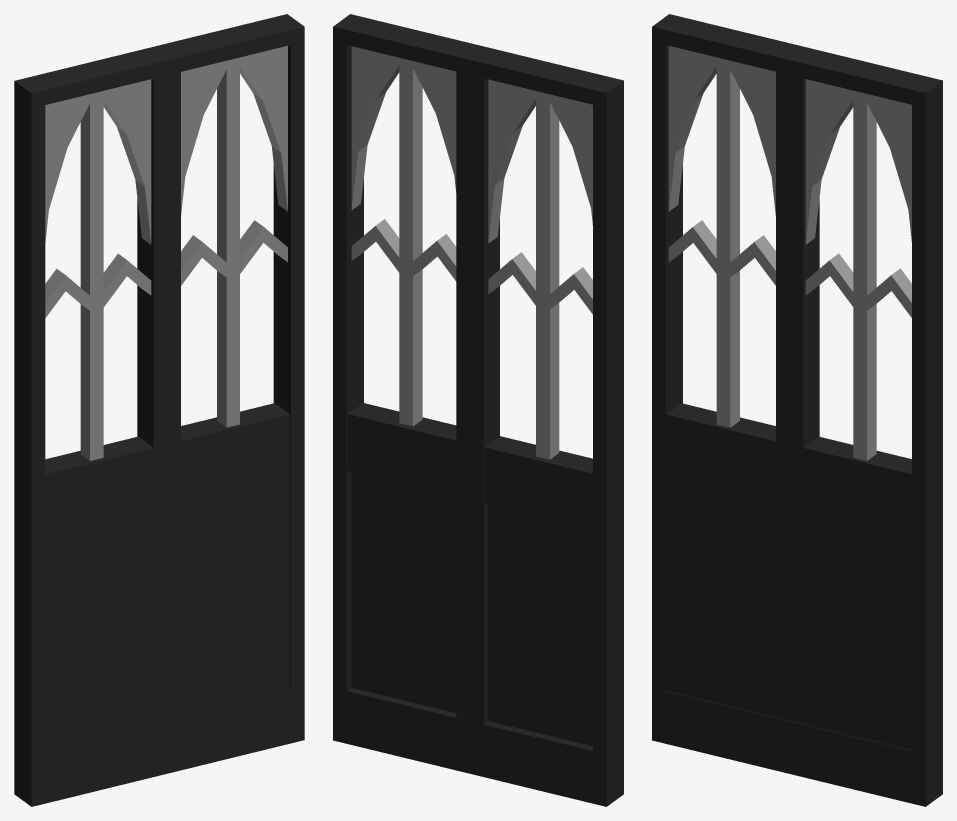
File: Door_HauntedHouse.glb
3 renders of one model, left to right at view 1: azimuth 30°, elevation 25°; view 2: azimuth 150°, elevation 25°; view 3: azimuth 330°, elevation 25°, orthographic.
Parts seen in each view (by area): view 1: House_Door.001; view 2: House_Door.001; view 3: House_Door.001.
Part boxes in pixels (left/top/right/bottom): House_Door.001: left=14, top=14, right=304, bottom=806; House_Door.001: left=333, top=14, right=623, bottom=806; House_Door.001: left=652, top=14, right=942, bottom=806.
Size of what is drawn, in the model's own units: 0.9877 by 2.47 by 0.1096.
1 material, 1 textured.
